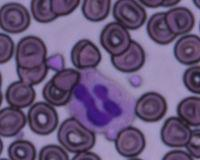N: (68, 67, 137, 137)
